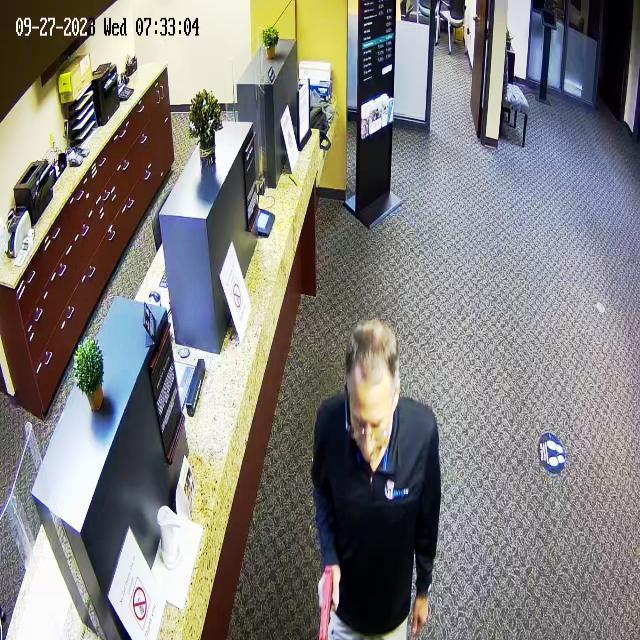Gun: (307, 549, 343, 631)
